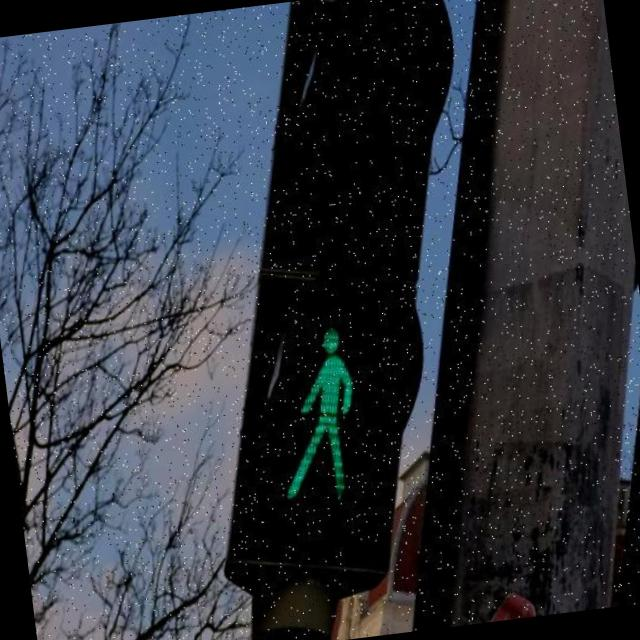green_light: (257, 302, 409, 524)
